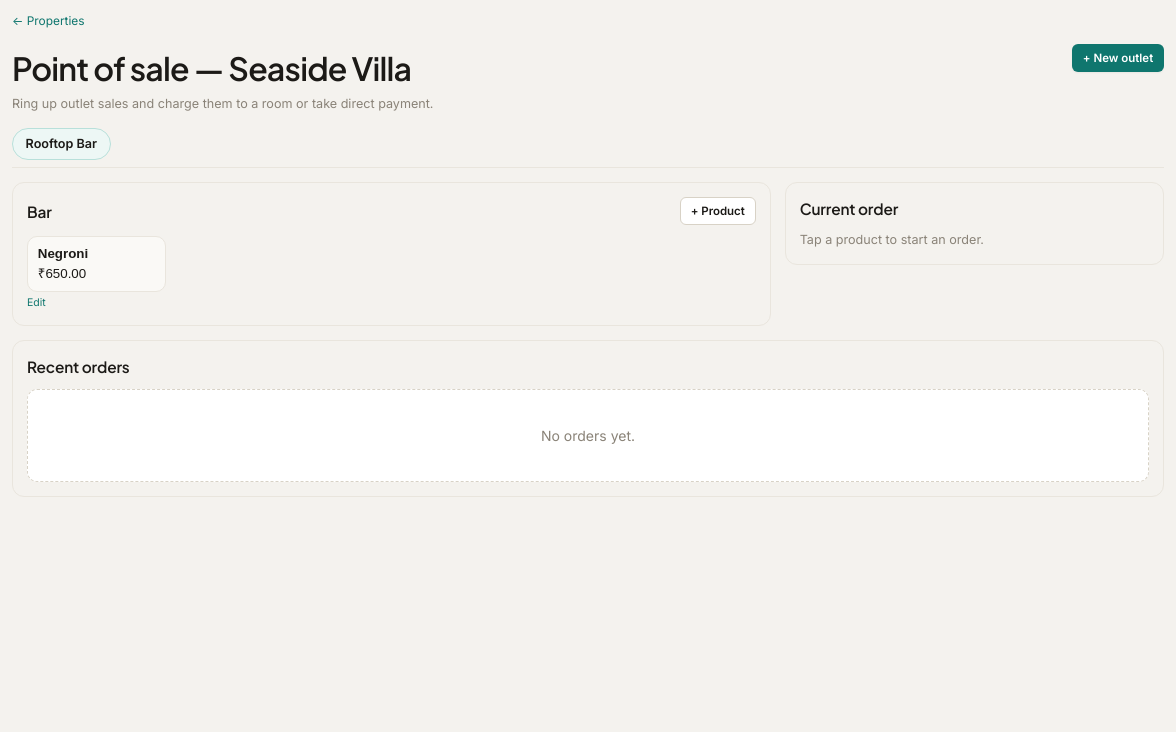
Scenario: PosPage › requires a reservation id before a room-charge order can be placed
The width and height of the screenshot is (1176, 732).
Click the button "Negroni ₹650.00" at [96, 264], box [27,236,166,292]
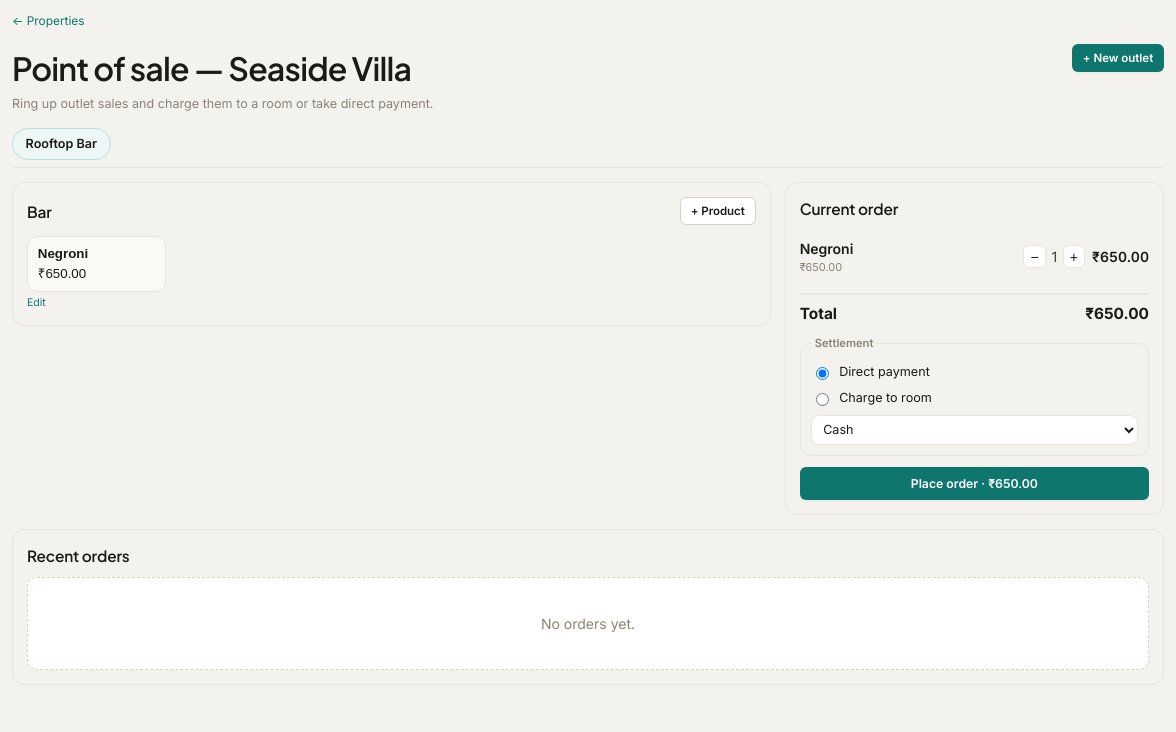
# Switch to charge-to-room.
Click the radio button labelled "Charge to room" at [823, 400], box [816,393,829,406]
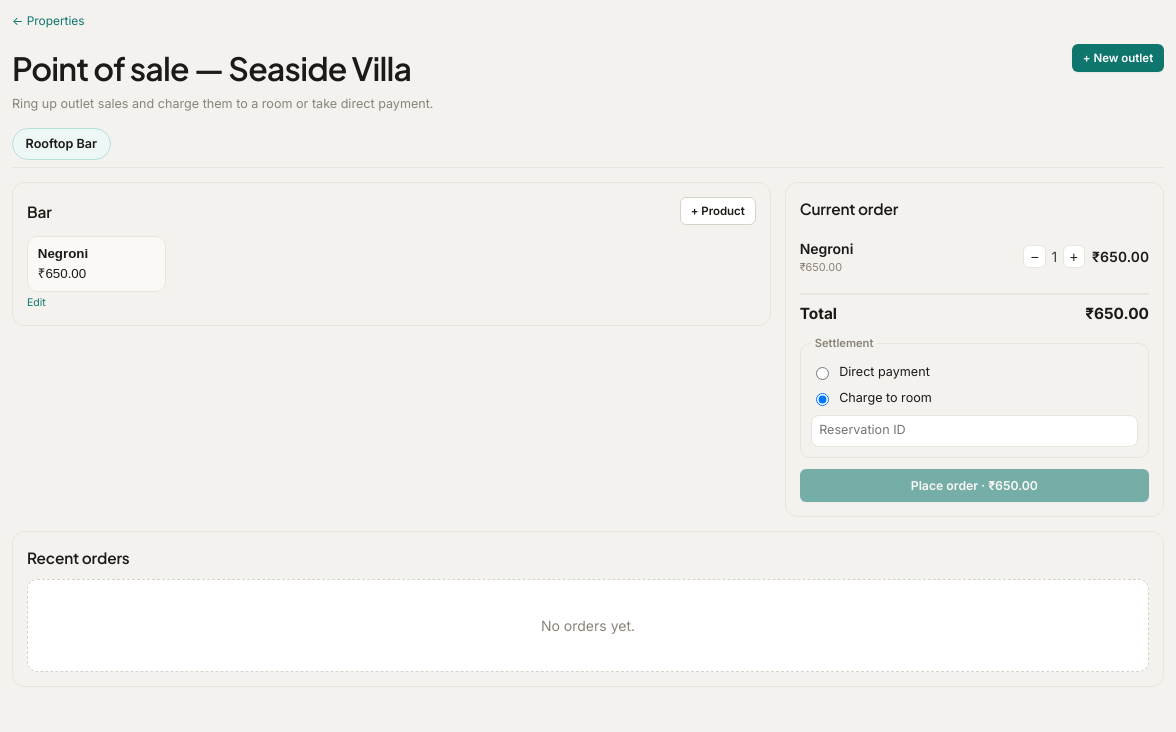
Result: the button "Place order · ₹650.00" is disabled at [800,469,1149,502]
Type "resv-1" into the field labelled "Reservation ID" at [974, 431], box [811,414,1138,447]
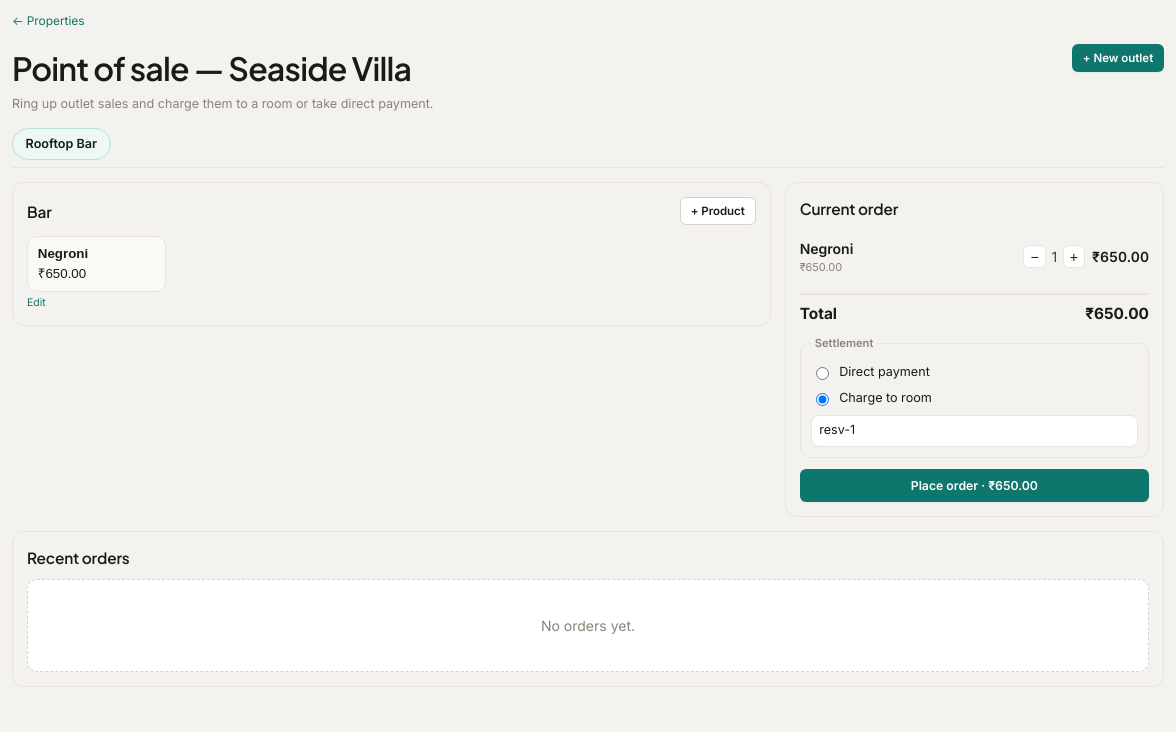
Result: the button "Place order · ₹650.00" is enabled at [800,469,1149,502]
